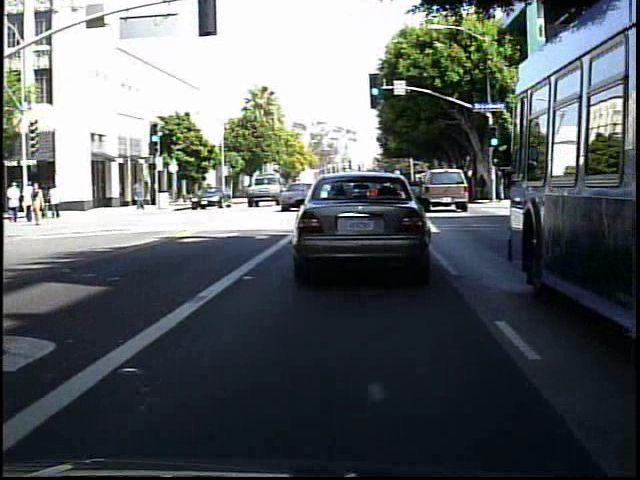person: (8, 181, 26, 226), (23, 180, 40, 224), (130, 176, 149, 214), (31, 183, 47, 228), (49, 180, 65, 220), (40, 184, 54, 220), (474, 169, 489, 202)
